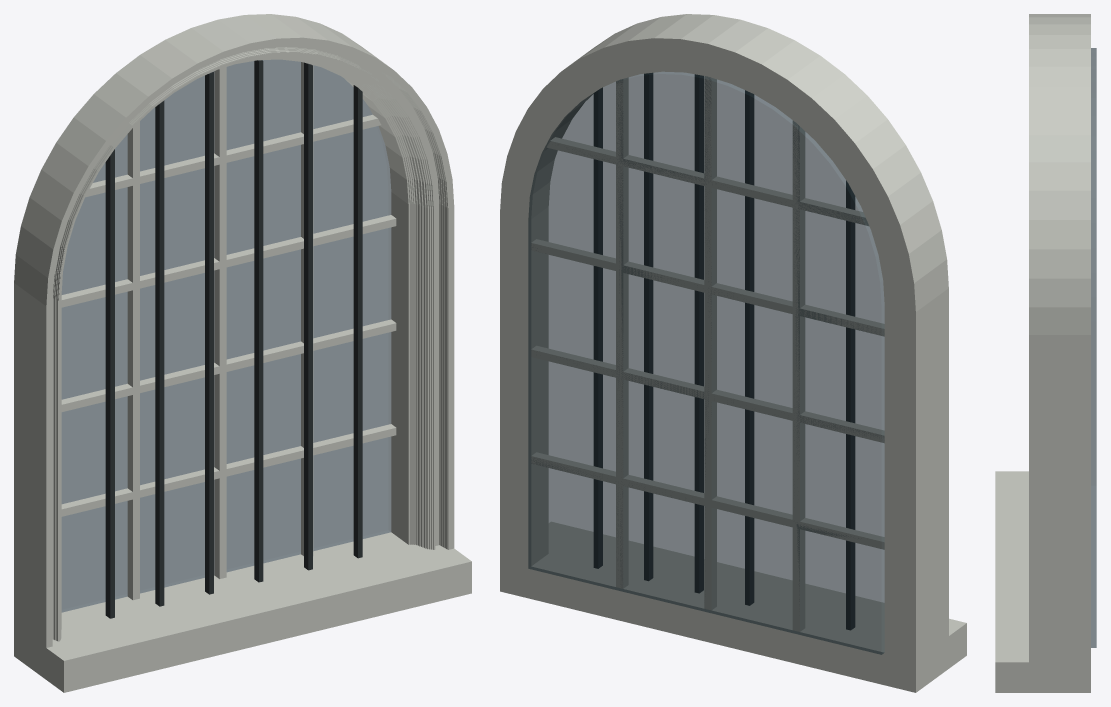
File: republicano_arch_con_reja.glb
3 views of the same model, side by side, from view 1: azimuth 30°, elevation 25°; view 2: azimuth 150°, elevation 25°; view 3: azimuth 270°, elevation 25° (orthographic). The views are drawn at different scales.
Visible parts, largest first — view 1: window_glass#0001, window_grille#0001, window_mullion#0001, window_sill#0001, window_reveal#0001, window_profile#0028, window_profile#0001, window_profile#0025, window_profile#0026, window_profile#0027, window_profile#0012, window_profile#0009 (+21 smaller); view 2: window_glass#0001, window_reveal#0001, window_mullion#0001, window_grille#0001, window_profile#0028, window_sill#0001, window_profile#0001; view 3: window_profile#0028, window_reveal#0001, window_sill#0001, window_glass#0001.
Part boxes in pixels (x1,y1,x2,y2): window_glass#0001: (61, 59, 391, 612); window_grille#0001: (105, 60, 362, 618); window_mullion#0001: (61, 62, 396, 600); window_sill#0001: (23, 543, 471, 692); window_reveal#0001: (14, 14, 404, 662); window_profile#0028: (25, 22, 454, 679); window_profile#0001: (61, 58, 409, 629); window_profile#0025: (51, 42, 449, 646); window_profile#0026: (49, 41, 451, 647); window_profile#0027: (48, 39, 452, 647); window_profile#0012: (58, 52, 434, 641); window_profile#0009: (61, 55, 428, 638); window_glass#0001: (528, 71, 884, 654); window_reveal#0001: (500, 28, 929, 692); window_mullion#0001: (531, 76, 884, 631); window_grille#0001: (594, 73, 854, 630); window_profile#0028: (576, 14, 948, 649); window_sill#0001: (549, 522, 966, 685); window_profile#0001: (543, 94, 884, 638); window_profile#0028: (1029, 14, 1068, 692); window_reveal#0001: (1065, 14, 1090, 692); window_sill#0001: (995, 471, 1074, 692); window_glass#0001: (1091, 48, 1096, 647).
Size of the model in its own units: 1.6 by 2.2 by 0.36.
